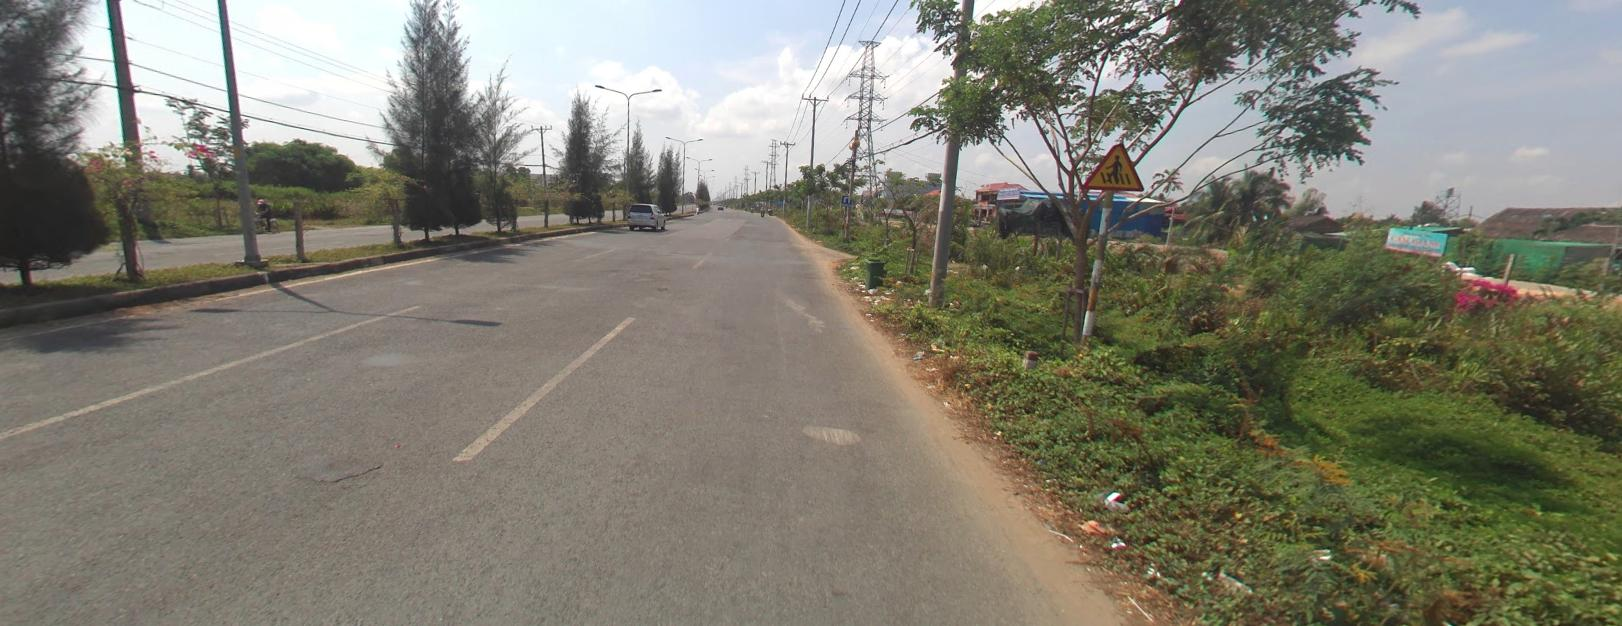Cam nguoc chieu: (690, 193, 693, 197)
Hieu lenh: (690, 197, 693, 201)
Nguy hiem: (1080, 135, 1149, 191), (1080, 139, 1146, 191)
